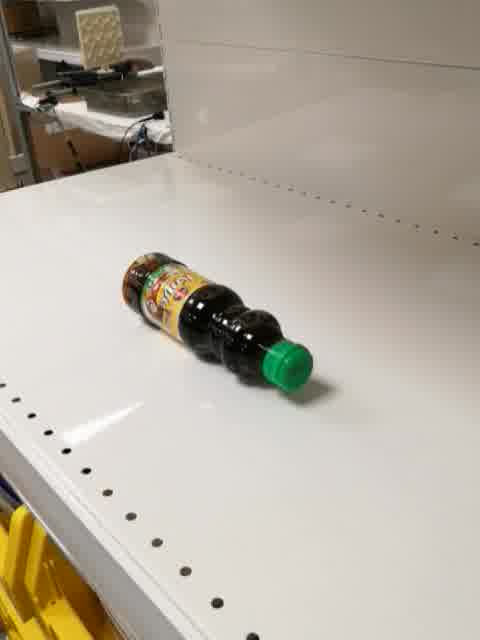cookingoil: (121, 251, 316, 398)
